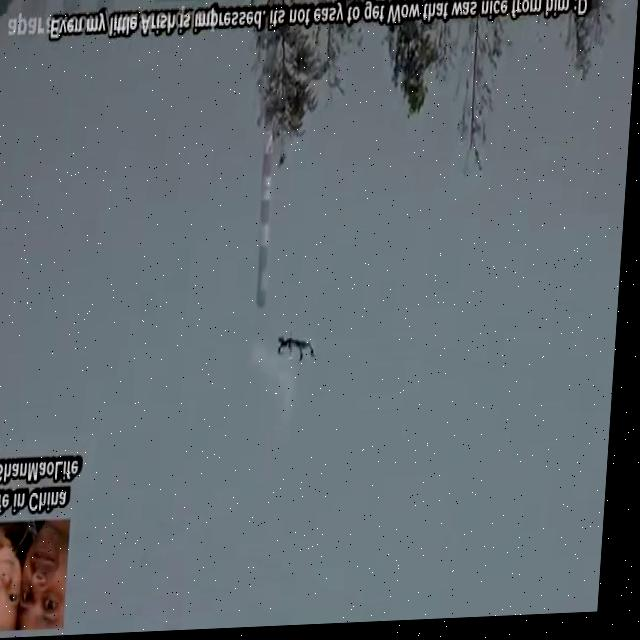drone: (277, 335, 325, 375)
